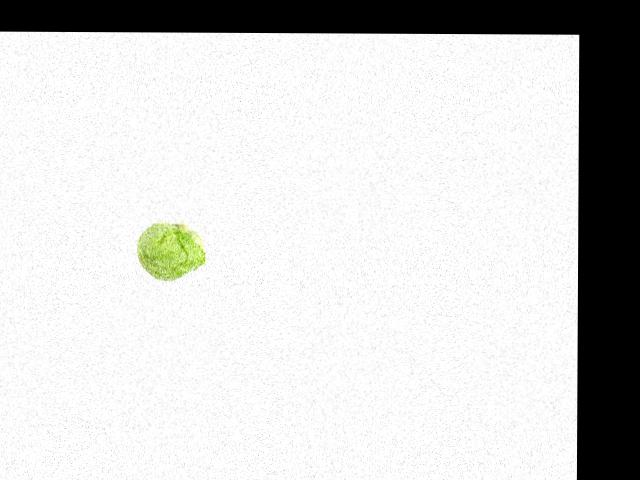lettuce: (130, 223, 213, 287)
